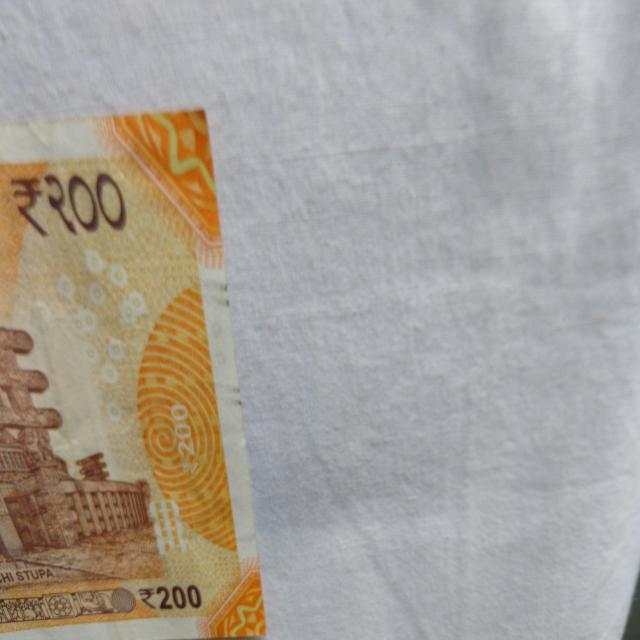Currency: (0, 100, 313, 640)
